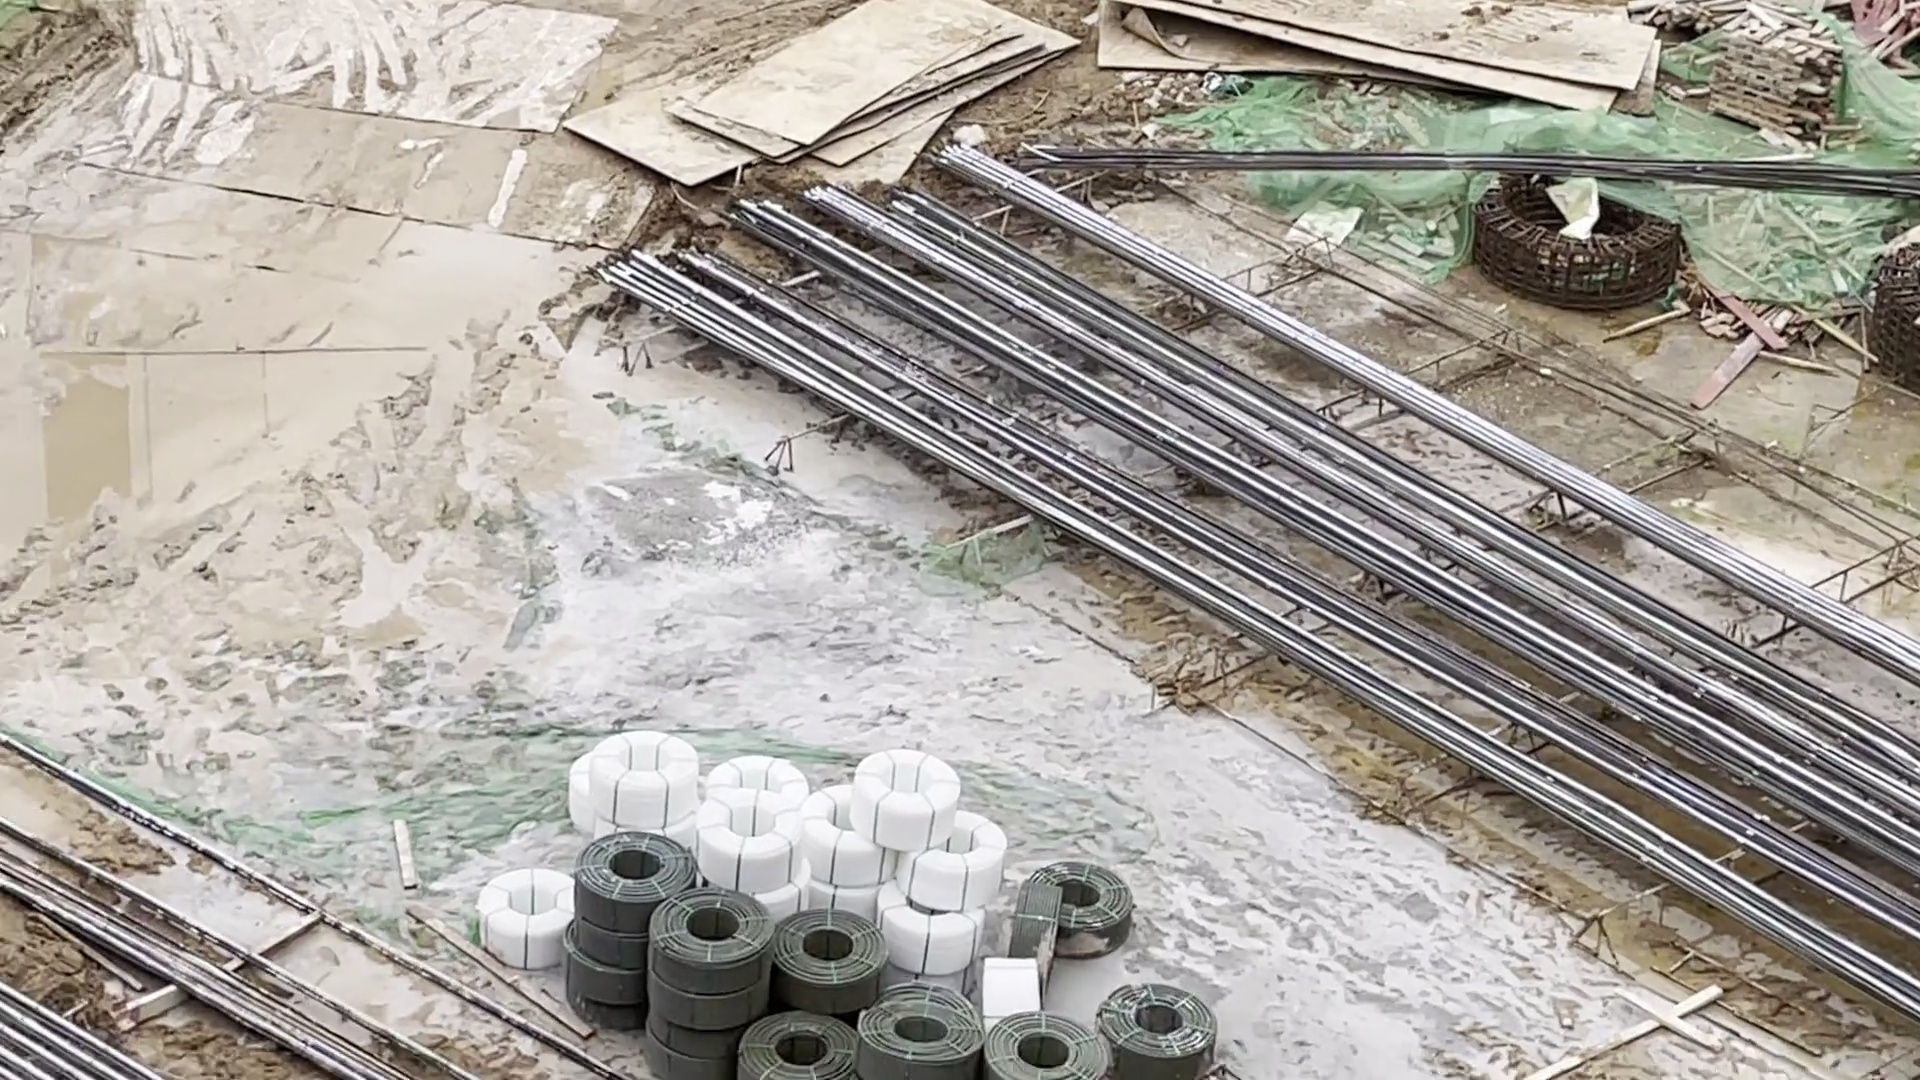rebar: (760, 154, 1429, 676), (1502, 549, 1920, 956)
